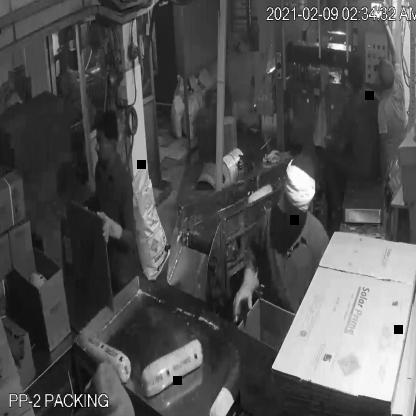glove: (228, 255, 266, 335), (90, 200, 130, 257)
